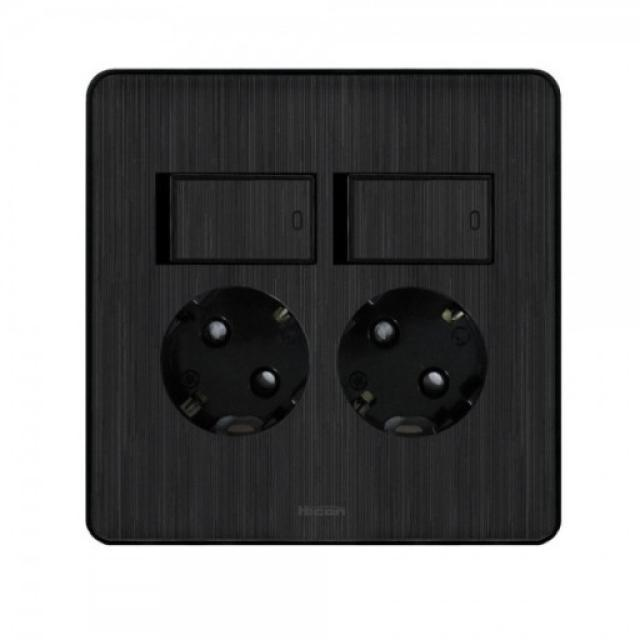typeb: (60, 53, 614, 580)
